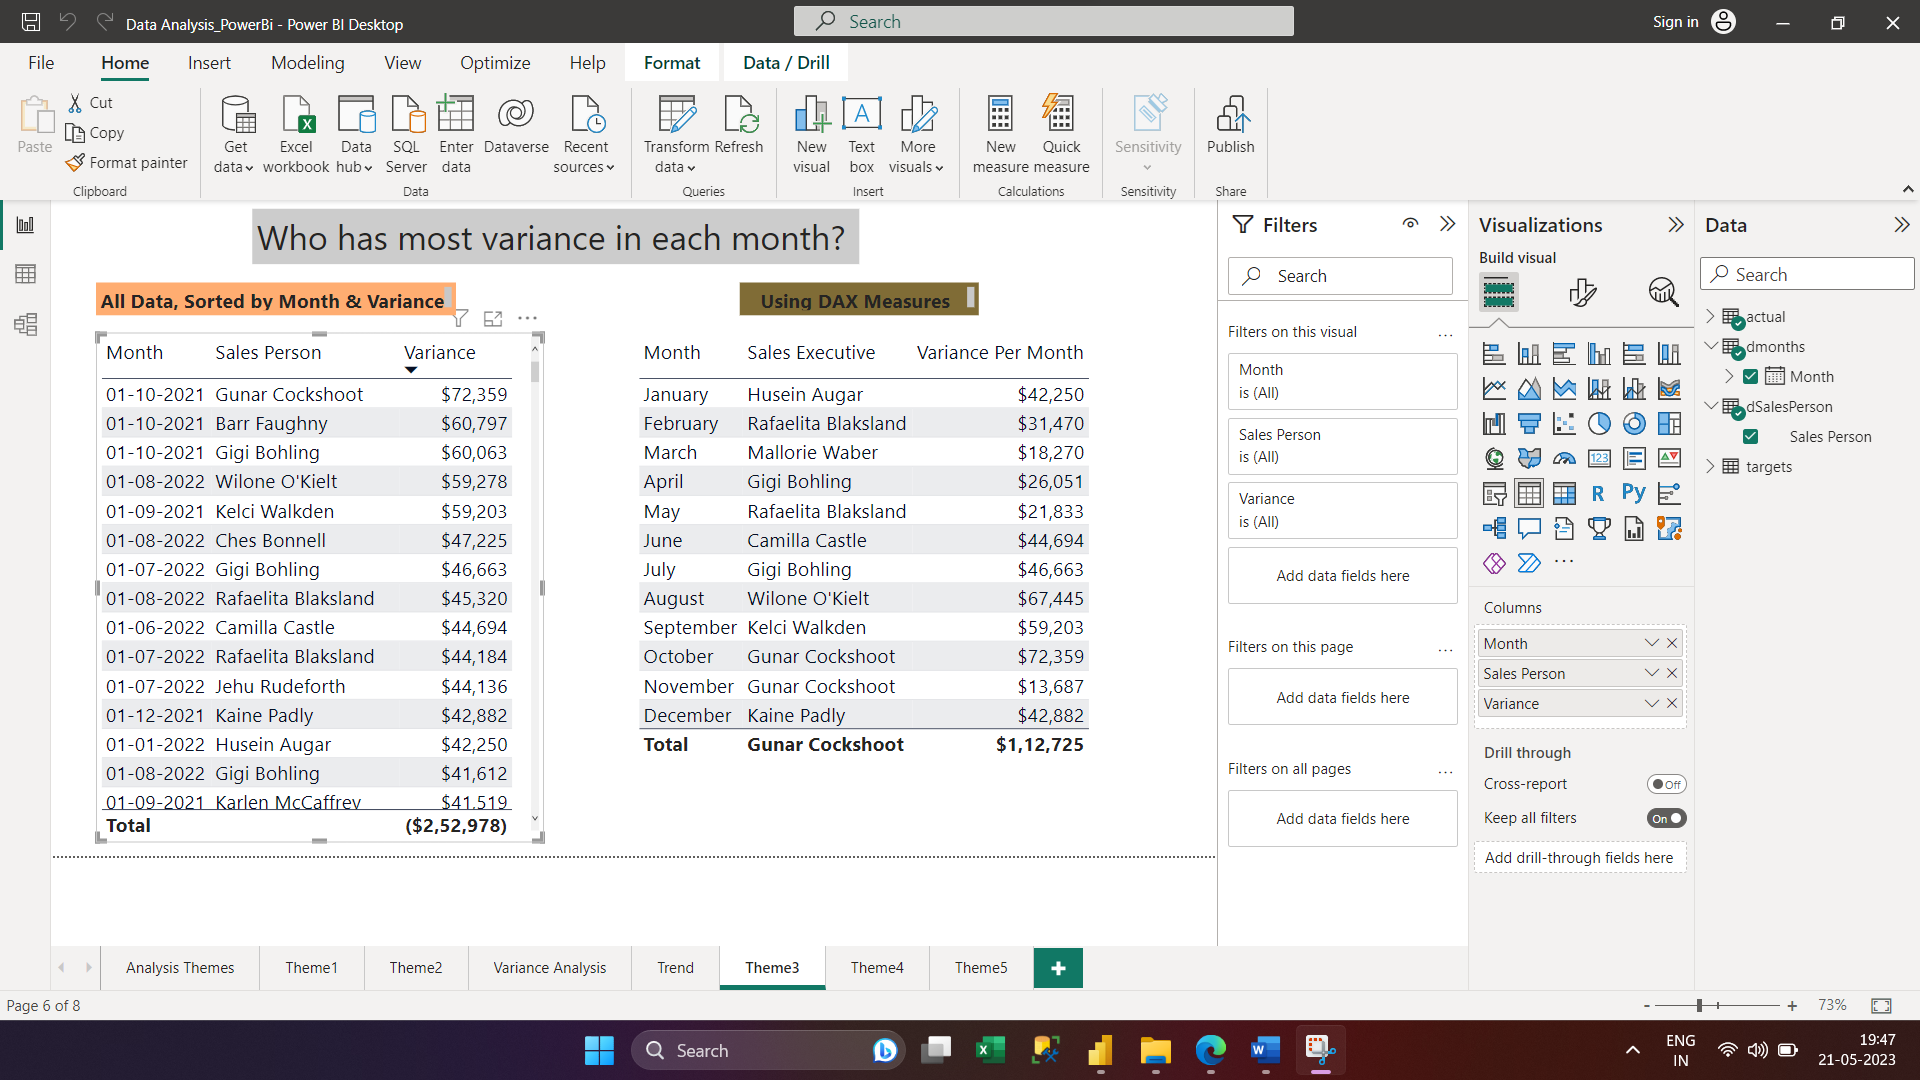

The page's visual inventory and layout, read from the dashboard file:
{"tool":"powerbi","page":{"name":"Theme3","canvas":[1280,720],"ordinal":5},"visuals":[{"type":"tableEx","fields":{"Values":["dmonths.Month","dSalesPerson.Sales Person","actual.Variance"]},"box":[49.4,145.6,491.7,560.3],"z":0},{"type":"tableEx","fields":{"Values":["dmonths.Month.Variation.Date Hierarchy.Month","actual.Most Variance per Month","actual.Most Variance Value Per Month"]},"box":[640,145.6,516.4,494.4],"z":1000},{"type":"textbox","box":[221.1,9.6,666.1,60.4],"z":2000},{"type":"textbox","box":[49.4,90.6,395.5,35.7],"z":3000},{"type":"textbox","box":[756.7,90.6,262.3,35.7],"z":4000}]}

Visuals, with their boxes on the page's 1280x720 design canvas (x1, y1, x2, y2). These are canvas units, not pixel positions in the 1920x1080 screenshot, which may show the page scaled, cropped or inside an application window:
tableEx - dmonths.Month x dSalesPerson.Sales Person: x1=49 y1=146 x2=541 y2=706
tableEx - dmonths.Month.Variation.Date Hierarchy.Month x actual.Most Variance per Month: x1=640 y1=146 x2=1156 y2=640
textbox: x1=221 y1=10 x2=887 y2=70
textbox: x1=49 y1=91 x2=445 y2=126
textbox: x1=757 y1=91 x2=1019 y2=126
